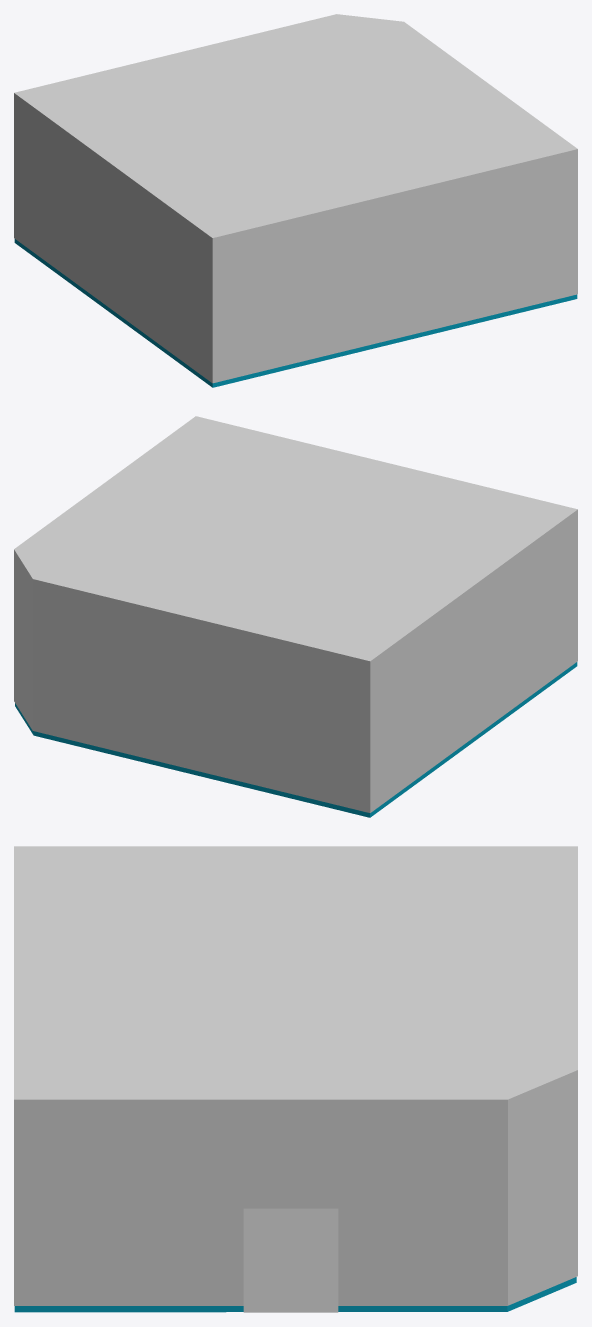
Rendered from RoomWDoor.fbx.
3 renders of one model, top to bottom at view 1: azimuth 30°, elevation 25°; view 2: azimuth 150°, elevation 25°; view 3: azimuth 270°, elevation 25°, orthographic. The views are drawn at different scales.
Parts seen in each view (by area): view 1: WallsWDoor; view 2: WallsWDoor; view 3: WallsWDoor.
Boxes of the visible parts, x1,y1,x2,y2 form: WallsWDoor: [14, 14, 577, 387]; WallsWDoor: [14, 416, 577, 817]; WallsWDoor: [14, 846, 577, 1312].
Bounding box in the file's own units: 1275 × 500 × 1200.
